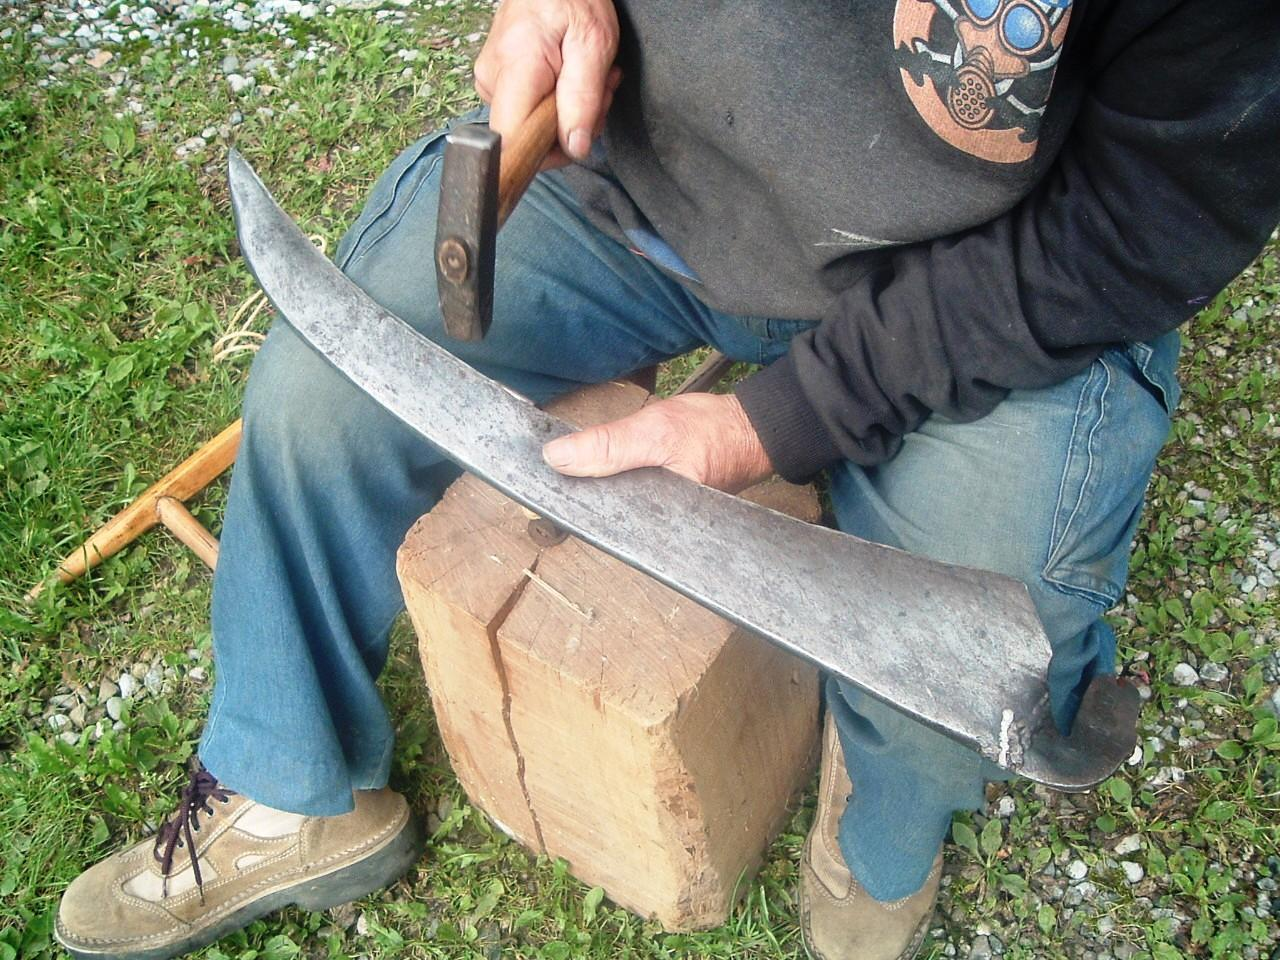espada: (229, 150, 1139, 790)
